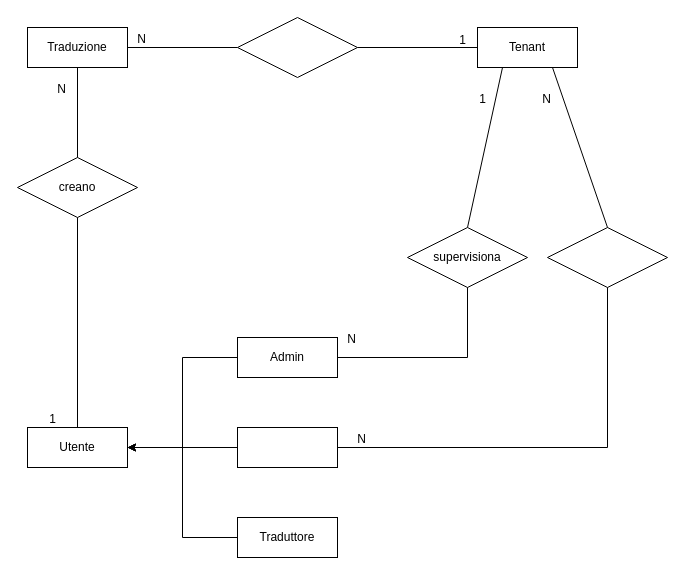
Some shapes in this 685 by 575 pixel diagram are drawn without their labels. Here are the shapes that lost their labels. From the top down, the box of each, then its label:
(236, 16, 358, 78): appartiene
(546, 226, 668, 288): gestisce
(236, 426, 338, 468): SuperAdmin
